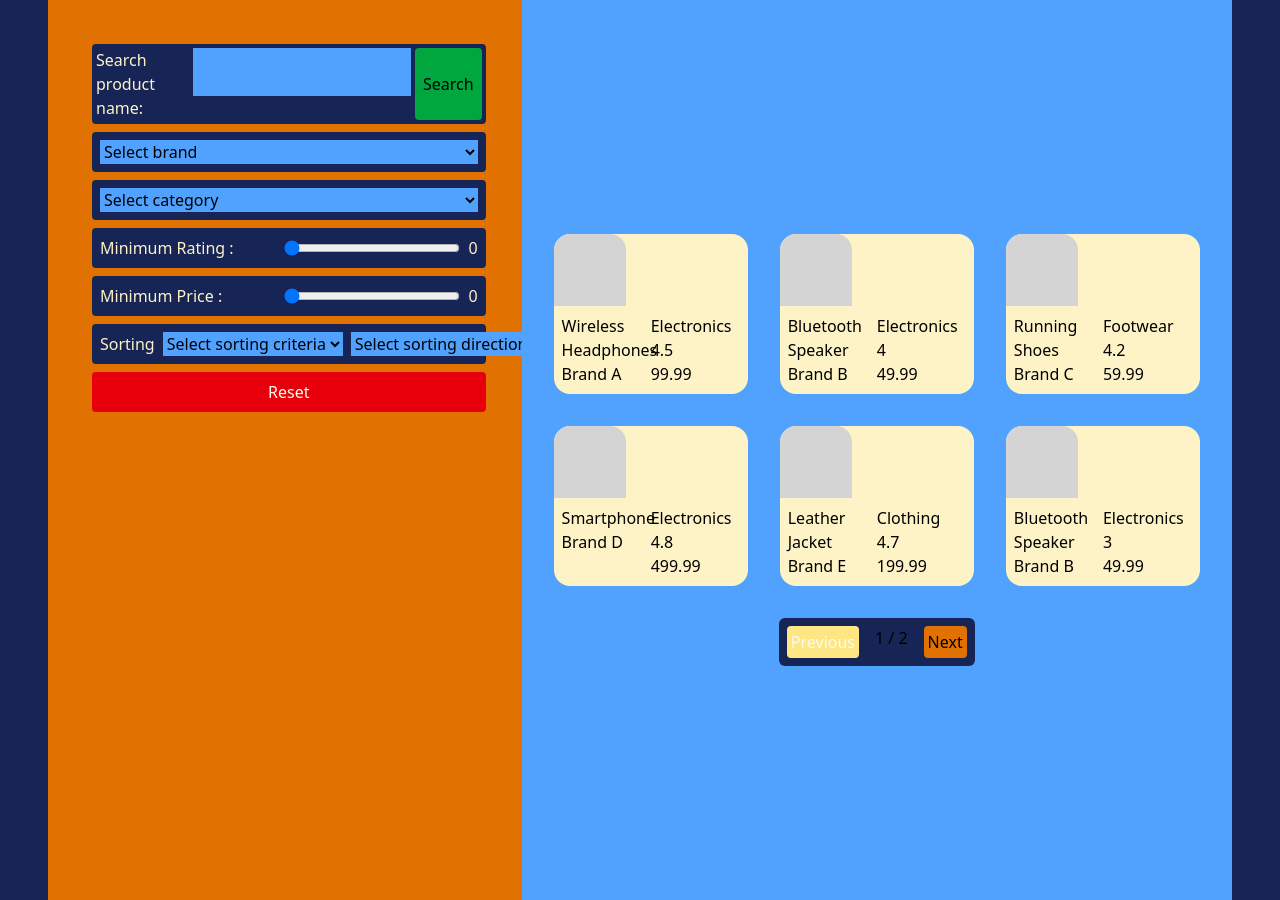
Test: Table › Range filtering
This screenshot has width=1280, height=900.
Expected: the element with test id "filter-bar" is shown, [48,0,522,899]
Expected: the element with test id "pagination-panel" is shown, [779,618,975,666]
Set the slider with test id "rating-filter" to "4" at (420, 248), box [284,236,460,260]
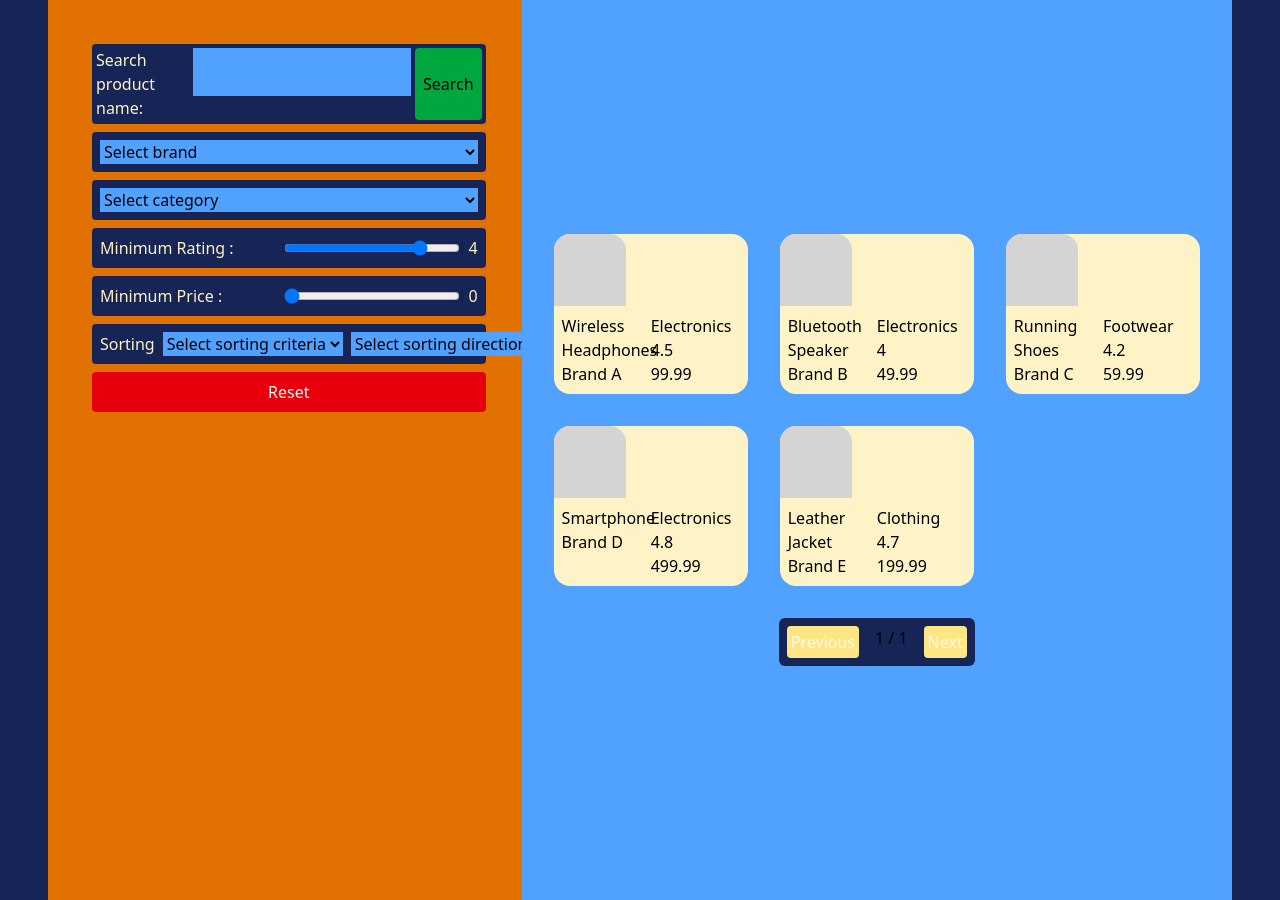
Set the slider with test id "price-filter" to "500" at (452, 296), box [284,284,460,308]
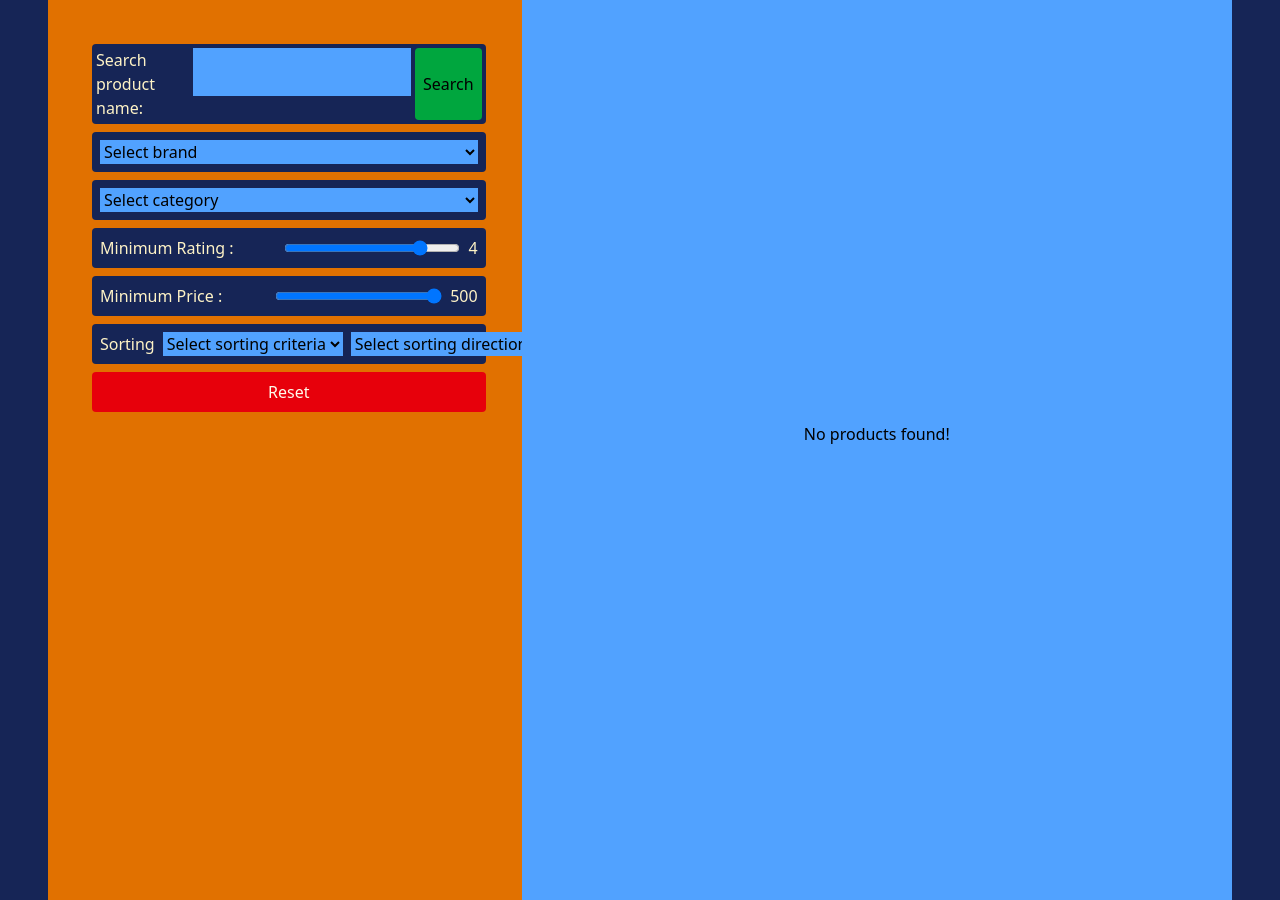
Expected: the text "No products found!" is shown, [804,422,950,446]
